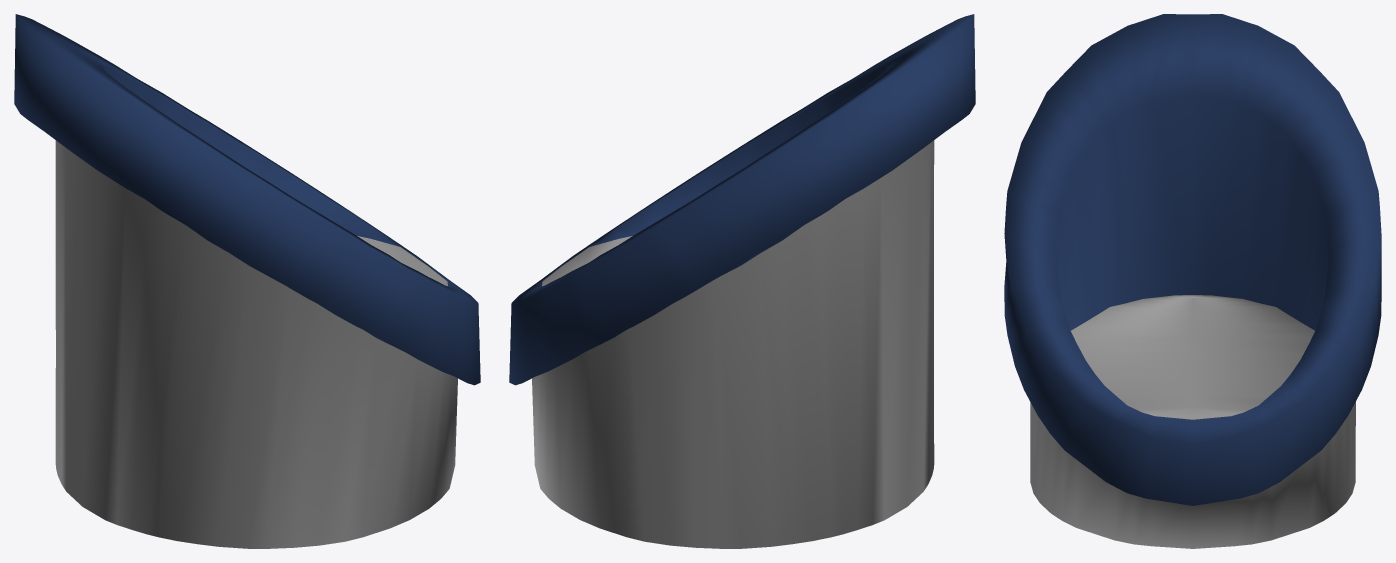
Rendered from Lighthouse_Top_RAI(1).fbx.
The picture shows the model from 3 angles, left to right: view 1: azimuth 30°, elevation 25°; view 2: azimuth 150°, elevation 25°; view 3: azimuth 270°, elevation 25°; orthographic projection. The views are drawn at different scales.
Parts seen in each view (by area): view 1: RetopoGroup1; view 2: RetopoGroup1; view 3: RetopoGroup1.
Part boxes in pixels (x1=…): RetopoGroup1: x1=14, y1=14, x2=480, y2=548; RetopoGroup1: x1=509, y1=14, x2=975, y2=548; RetopoGroup1: x1=1004, y1=14, x2=1381, y2=548.
Size of the model in its own units: 240 by 269 by 239.
